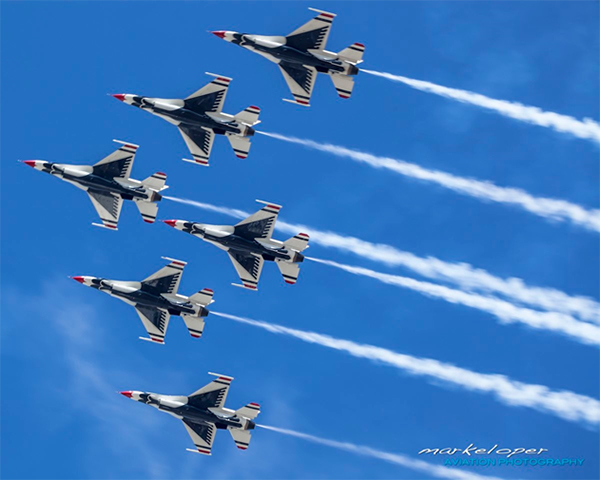plane: (207, 7, 362, 101), (11, 141, 164, 232), (65, 257, 218, 346), (111, 75, 261, 164), (116, 370, 265, 458), (162, 206, 316, 290)
